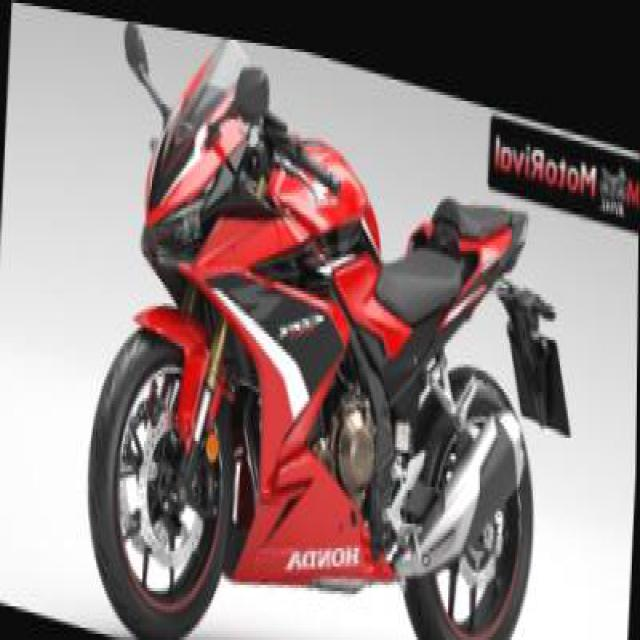CBR500R: (80, 9, 555, 637)
